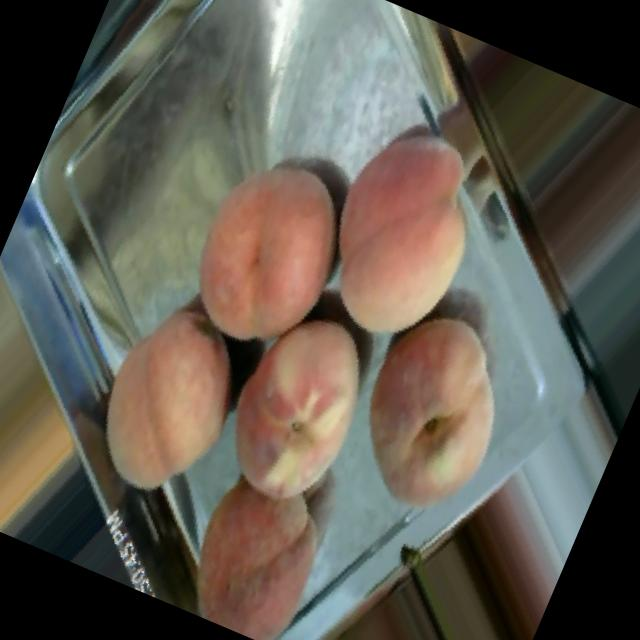Fruit: (266, 78, 548, 391), (313, 267, 572, 564), (138, 111, 384, 387), (0, 228, 176, 559), (44, 266, 266, 527), (194, 278, 413, 542), (149, 434, 387, 640)
